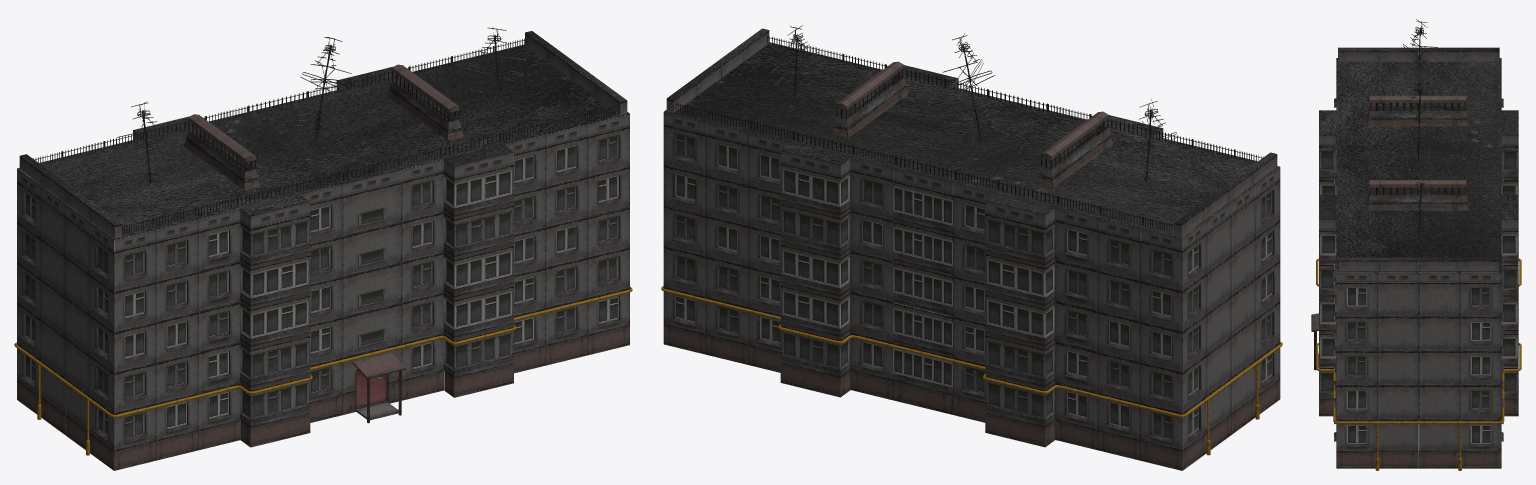
Rendered from lowpoly_panelka_psx.glb.
3 renders of one model, left to right at view 1: azimuth 30°, elevation 25°; view 2: azimuth 150°, elevation 25°; view 3: azimuth 270°, elevation 25°, orthographic. The views are drawn at different scales.
Visible parts, largest first — view 1: Panelka, Pipes, Vsor; view 2: Panelka, Pipes; view 3: Panelka, Pipes, Vsor.
Boxes of the visible parts, bbox=[...] form: Panelka: bbox=[17, 27, 629, 470]; Pipes: bbox=[14, 287, 632, 455]; Vsor: bbox=[352, 352, 405, 423]; Panelka: bbox=[663, 25, 1280, 470]; Pipes: bbox=[661, 286, 1282, 455]; Panelka: bbox=[1318, 19, 1518, 468]; Pipes: bbox=[1316, 258, 1521, 470]; Vsor: bbox=[1311, 313, 1318, 370].
Size of the model in its own units: 27.09 by 16.83 by 11.1.
1 material, 1 textured.
